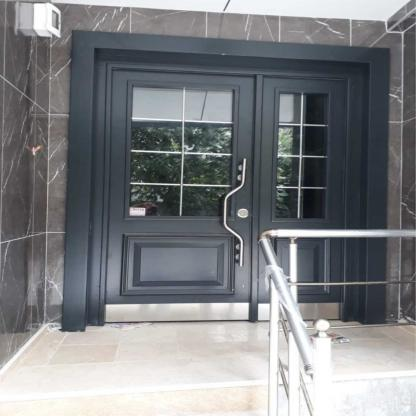door: (95, 60, 251, 321)
